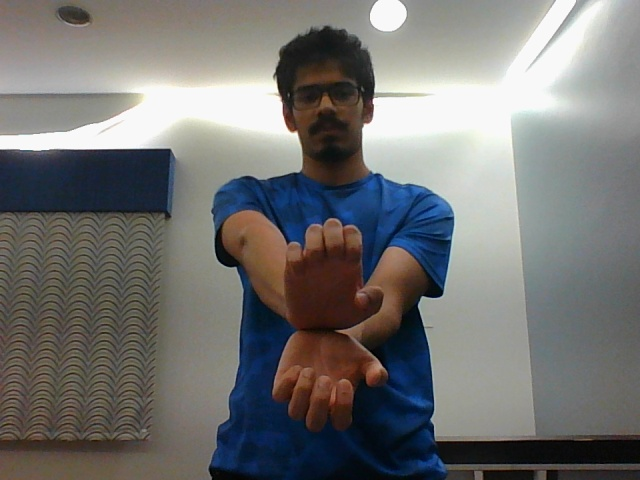blast: (260, 217, 400, 436)
